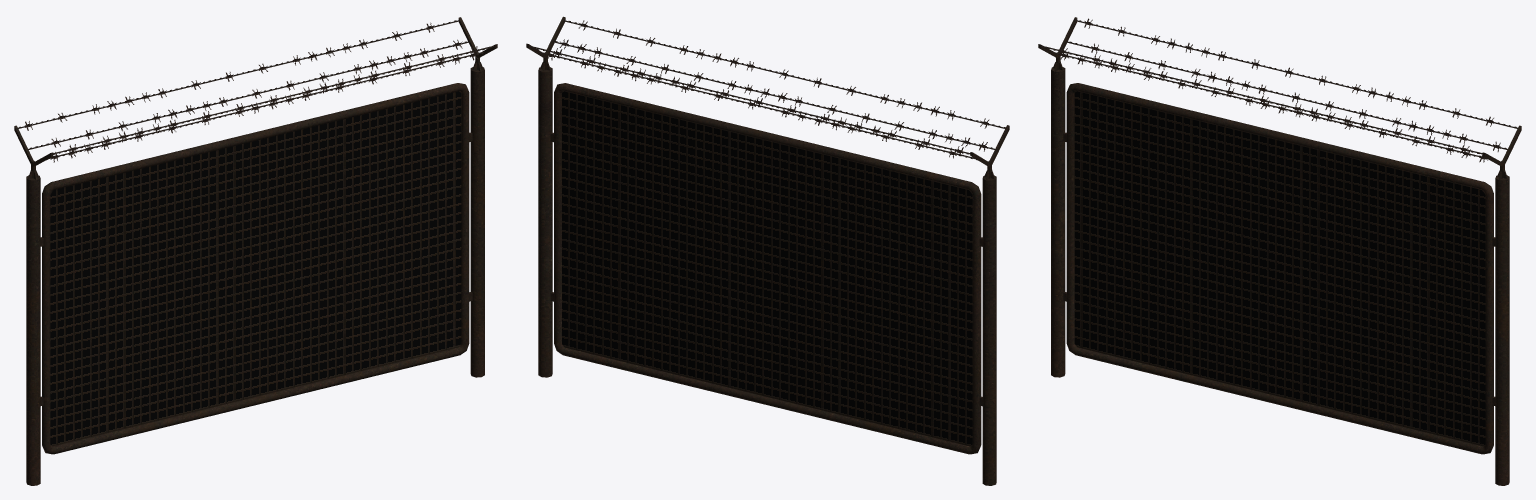
Rendered from fence_e_2.glb.
3 renders of one model, left to right at view 1: azimuth 30°, elevation 25°; view 2: azimuth 150°, elevation 25°; view 3: azimuth 330°, elevation 25°, orthographic.
Parts seen in each view (by area): view 1: fence_e_2; view 2: fence_e_2; view 3: fence_e_2.
Boxes of the visible parts, x1,y1,x2,y2 form: fence_e_2: (14,17,497,485); fence_e_2: (526,16,1009,485); fence_e_2: (1038,17,1521,485).
Size of the model in its own units: 3.6 by 2.61 by 0.5551.
Materials: 3 (3 with a texture image).
